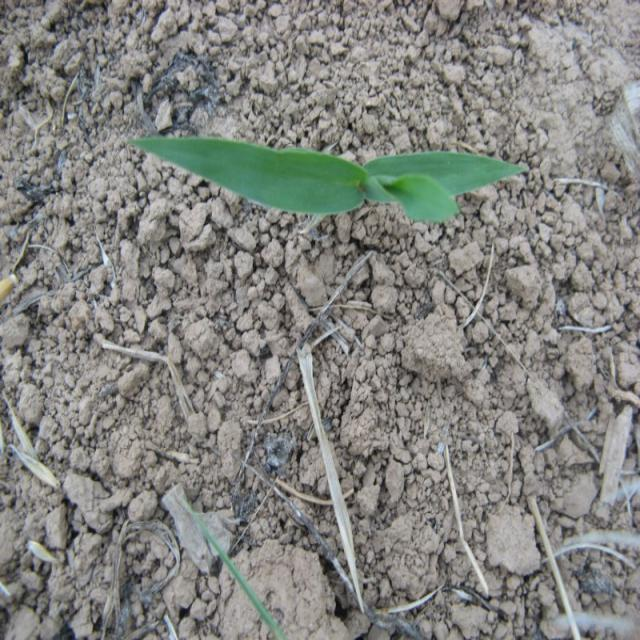bg: (135, 127, 530, 227)
